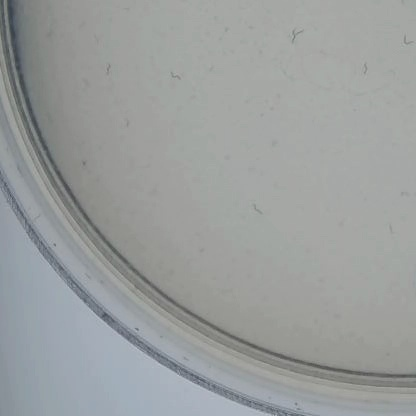worm: (243, 201, 267, 221), (289, 23, 309, 44), (395, 180, 416, 200), (163, 65, 190, 80), (277, 68, 292, 91), (102, 58, 117, 80), (384, 217, 397, 241), (399, 32, 416, 49), (120, 114, 134, 132), (358, 59, 370, 79), (395, 0, 408, 10)
